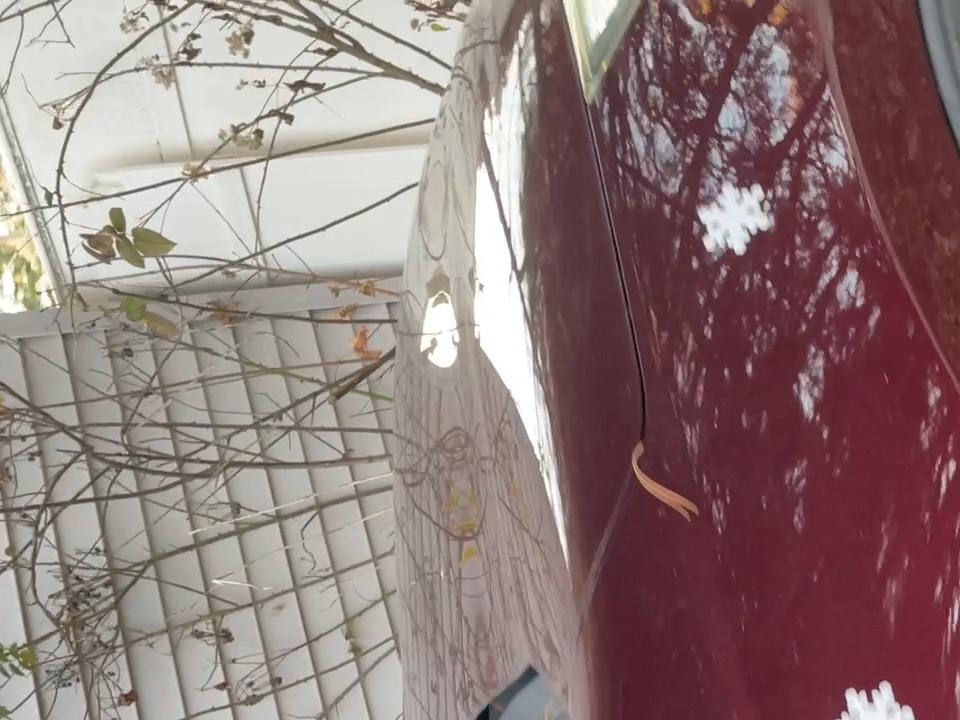dent: (689, 171, 780, 270), (821, 668, 926, 720)
